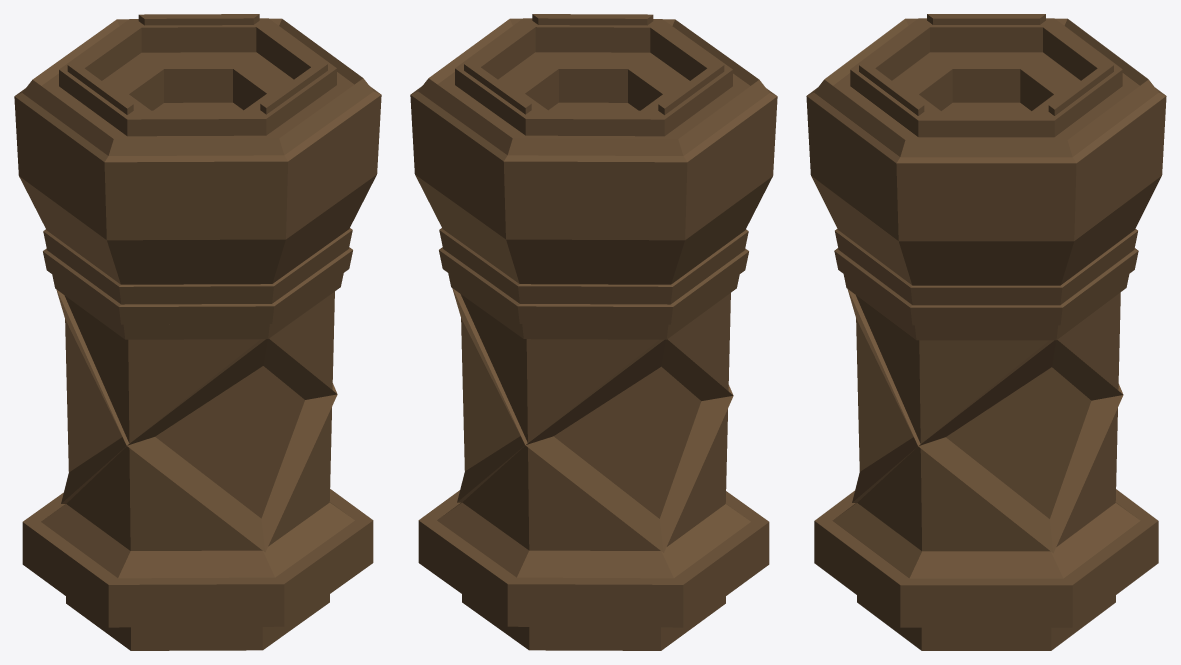
File: PuzzleAltar.fbx
3 views of the same model, side by side, from view 1: azimuth 30°, elevation 25°; view 2: azimuth 150°, elevation 25°; view 3: azimuth 270°, elevation 25° (orthographic).
Visible parts, largest first — view 1: Cylinder; view 2: Cylinder; view 3: Cylinder.
Part boxes in pixels (x1,y1,x2,y2): Cylinder: [14, 14, 381, 650]; Cylinder: [410, 14, 777, 650]; Cylinder: [806, 14, 1166, 650].
Size of the model in its own units: 185 by 345 by 208.
